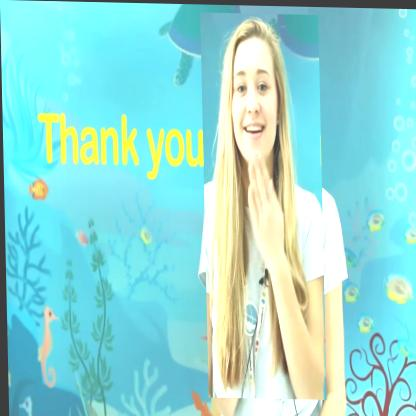ThankYou: (200, 11, 325, 399)
